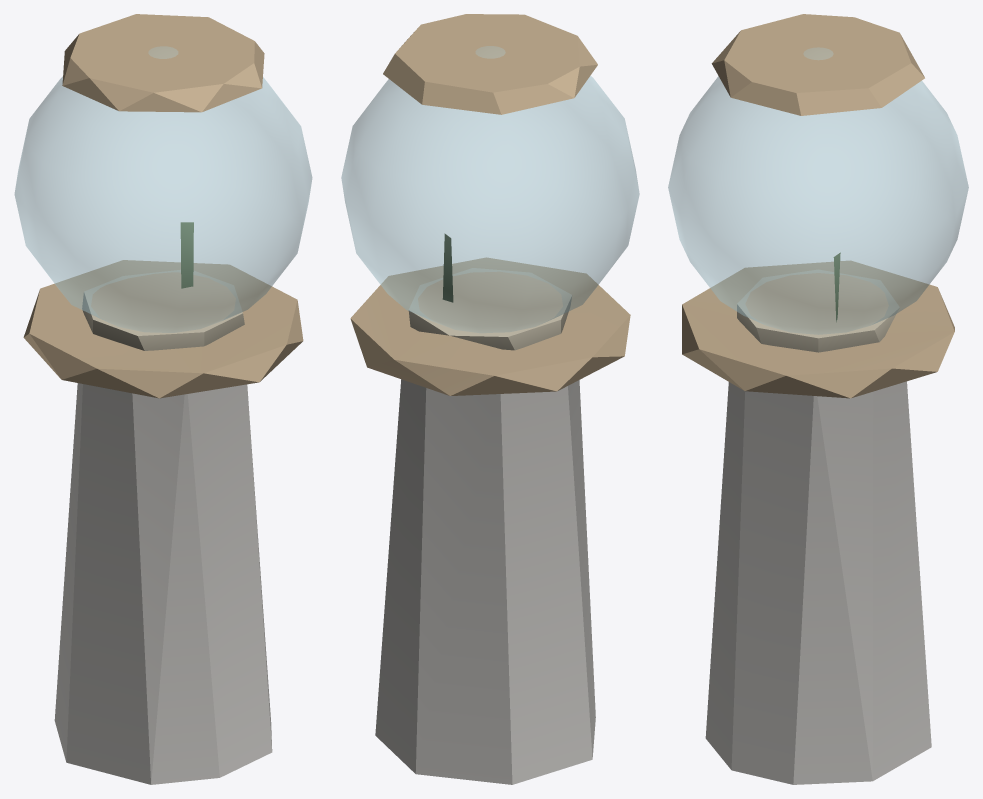
The model's file is furn_fish_bowl__white_low.glb.
3 views of the same model, side by side, from view 1: azimuth 30°, elevation 25°; view 2: azimuth 150°, elevation 25°; view 3: azimuth 270°, elevation 25° (orthographic).
Bounding box in the file's own units: 0.48 × 1.21 × 0.48.
